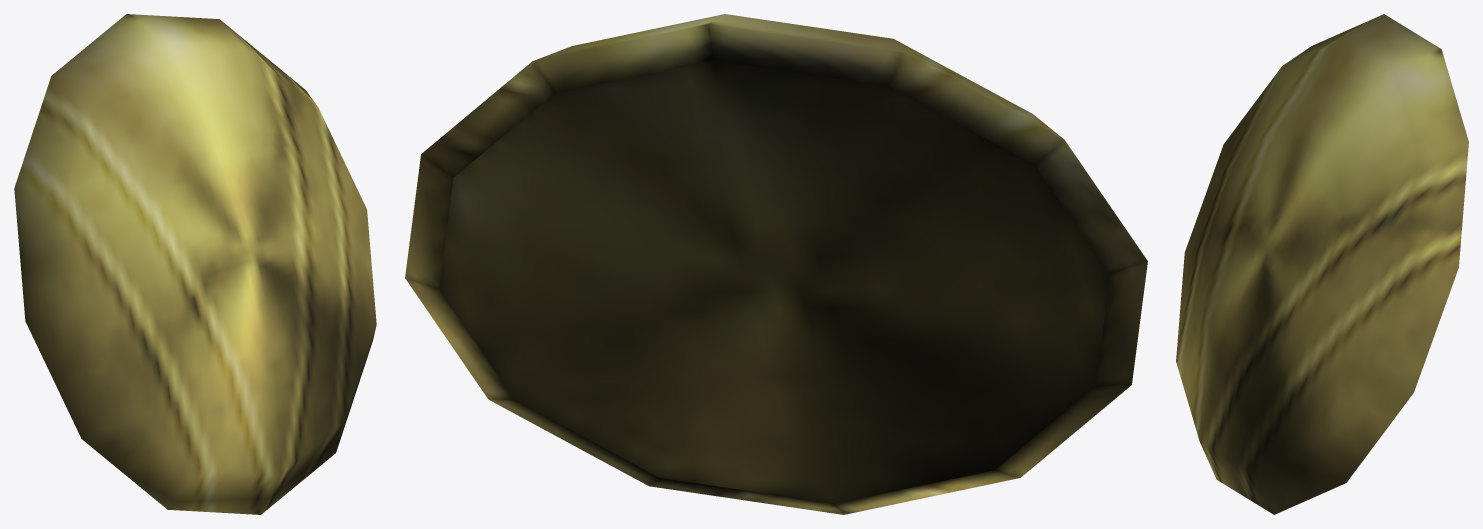
The model's file is shield 2.fbx.
3 views of the same model, side by side, from view 1: azimuth 30°, elevation 25°; view 2: azimuth 150°, elevation 25°; view 3: azimuth 270°, elevation 25° (orthographic). The views are drawn at different scales.
Visible parts, largest first — view 1: Front_table.002; view 2: Front_table.002; view 3: Front_table.002.
Boxes of the visible parts, x1,y1,x2,y2 form: Front_table.002: (14,14,376,514); Front_table.002: (405,14,1147,514); Front_table.002: (1176,14,1468,514).
Size of the model in its own units: 1.17 by 1.12 by 0.7102.
